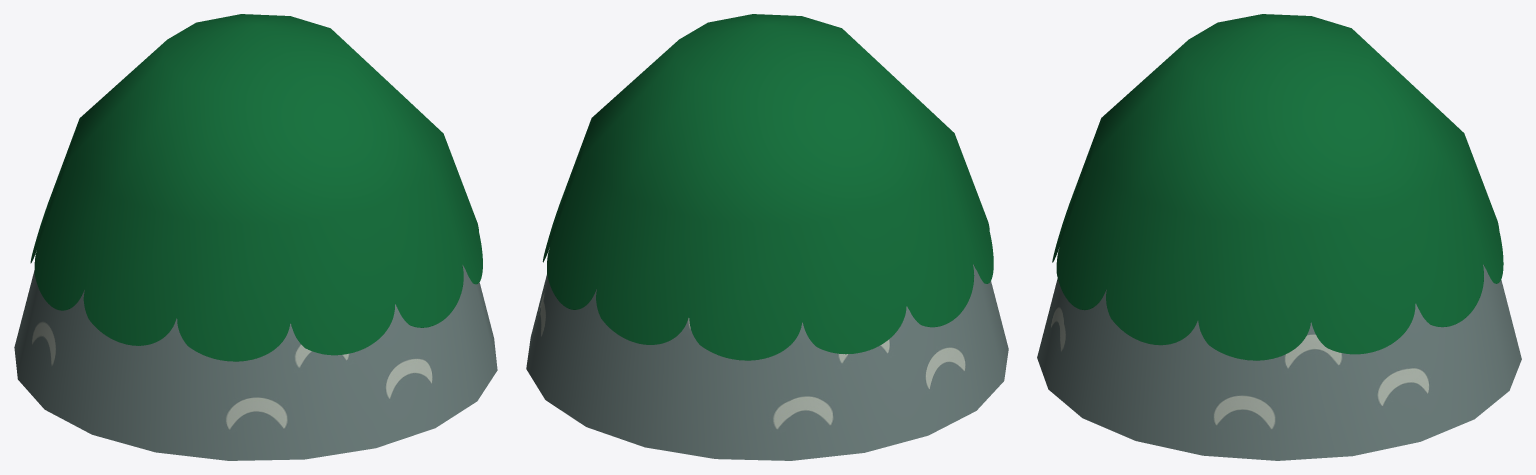
The model's file is RockLow.fbx.
3 views of the same model, side by side, from view 1: azimuth 30°, elevation 25°; view 2: azimuth 150°, elevation 25°; view 3: azimuth 270°, elevation 25° (orthographic).
Visible parts, largest first — view 1: Rock69, Rock70; view 2: Rock69, Rock70; view 3: Rock69, Rock70.
Boxes of the visible parts, x1,y1,x2,y2 form: Rock69: (30,14,482,361); Rock70: (14,265,497,460); Rock69: (542,14,993,360); Rock70: (526,264,1008,460); Rock69: (1052,14,1503,360); Rock70: (1037,264,1521,460).
Size of the model in its own units: 2.41 by 1.83 by 2.41.
